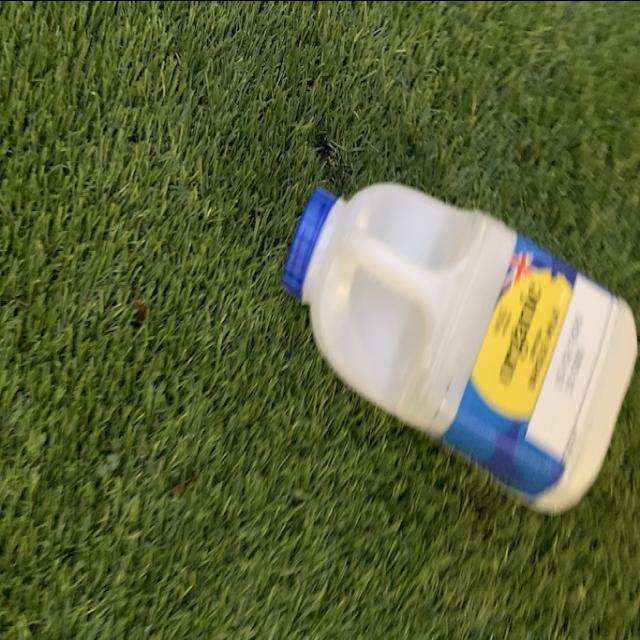HDPEM: (279, 178, 639, 512)
